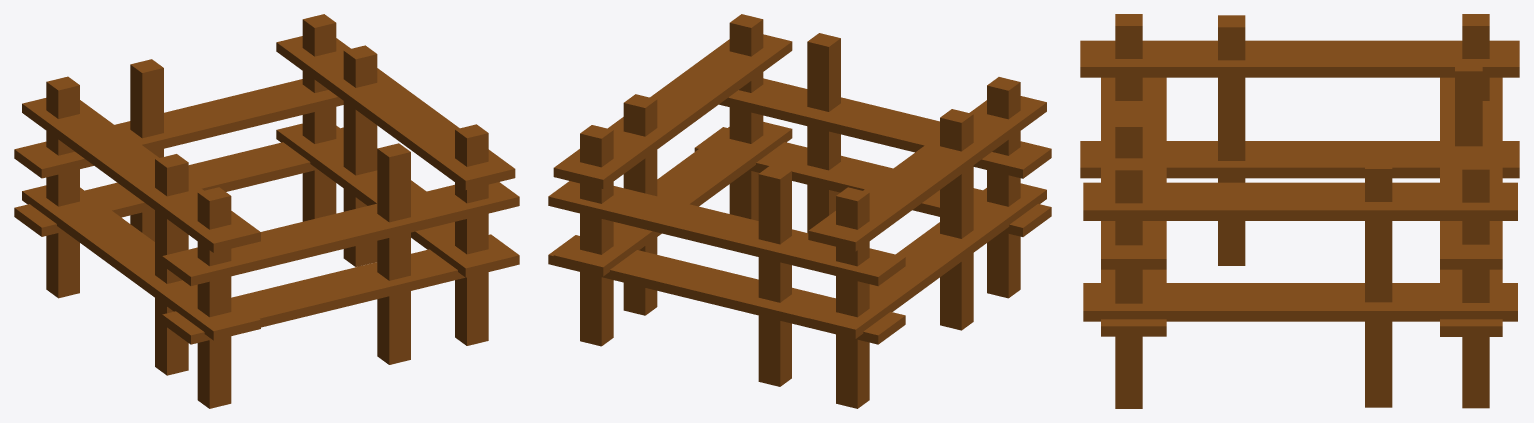
Rendered from scaffold.fbx.
3 views of the same model, side by side, from view 1: azimuth 30°, elevation 25°; view 2: azimuth 150°, elevation 25°; view 3: azimuth 270°, elevation 25° (orthographic). The views are drawn at different scales.
Parts seen in each view (by area): view 1: polySurface22; view 2: polySurface22; view 3: polySurface22.
Boxes of the visible parts, <box> form: polySurface22: <box>14,14,519,408</box>; polySurface22: <box>548,14,1051,408</box>; polySurface22: <box>1080,14,1519,408</box>.
Bounding box in the file's own units: 131 × 78.73 × 131.
1 material, 1 textured.
